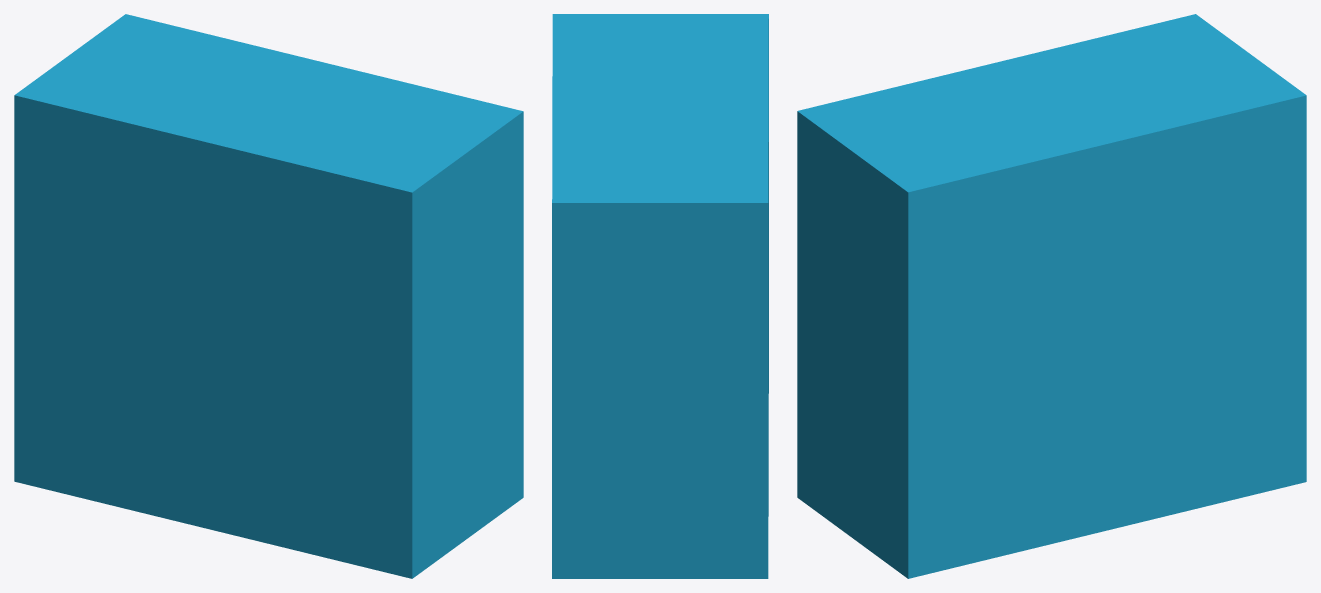
3 renders of one model, left to right at view 1: azimuth 30°, elevation 25°; view 2: azimuth 150°, elevation 25°; view 3: azimuth 270°, elevation 25°, orthographic. The views are drawn at different scales.
Parts seen in each view (by area): view 1: Visual_Cube; view 2: Visual_Cube; view 3: Visual_Cube.
Boxes of the visible parts, x1,y1,x2,y2 form: Visual_Cube: (14,14,523,578); Visual_Cube: (552,14,768,578); Visual_Cube: (797,14,1306,578).
Size of the model in its own units: 74.34 by 75.1 by 89.72.
